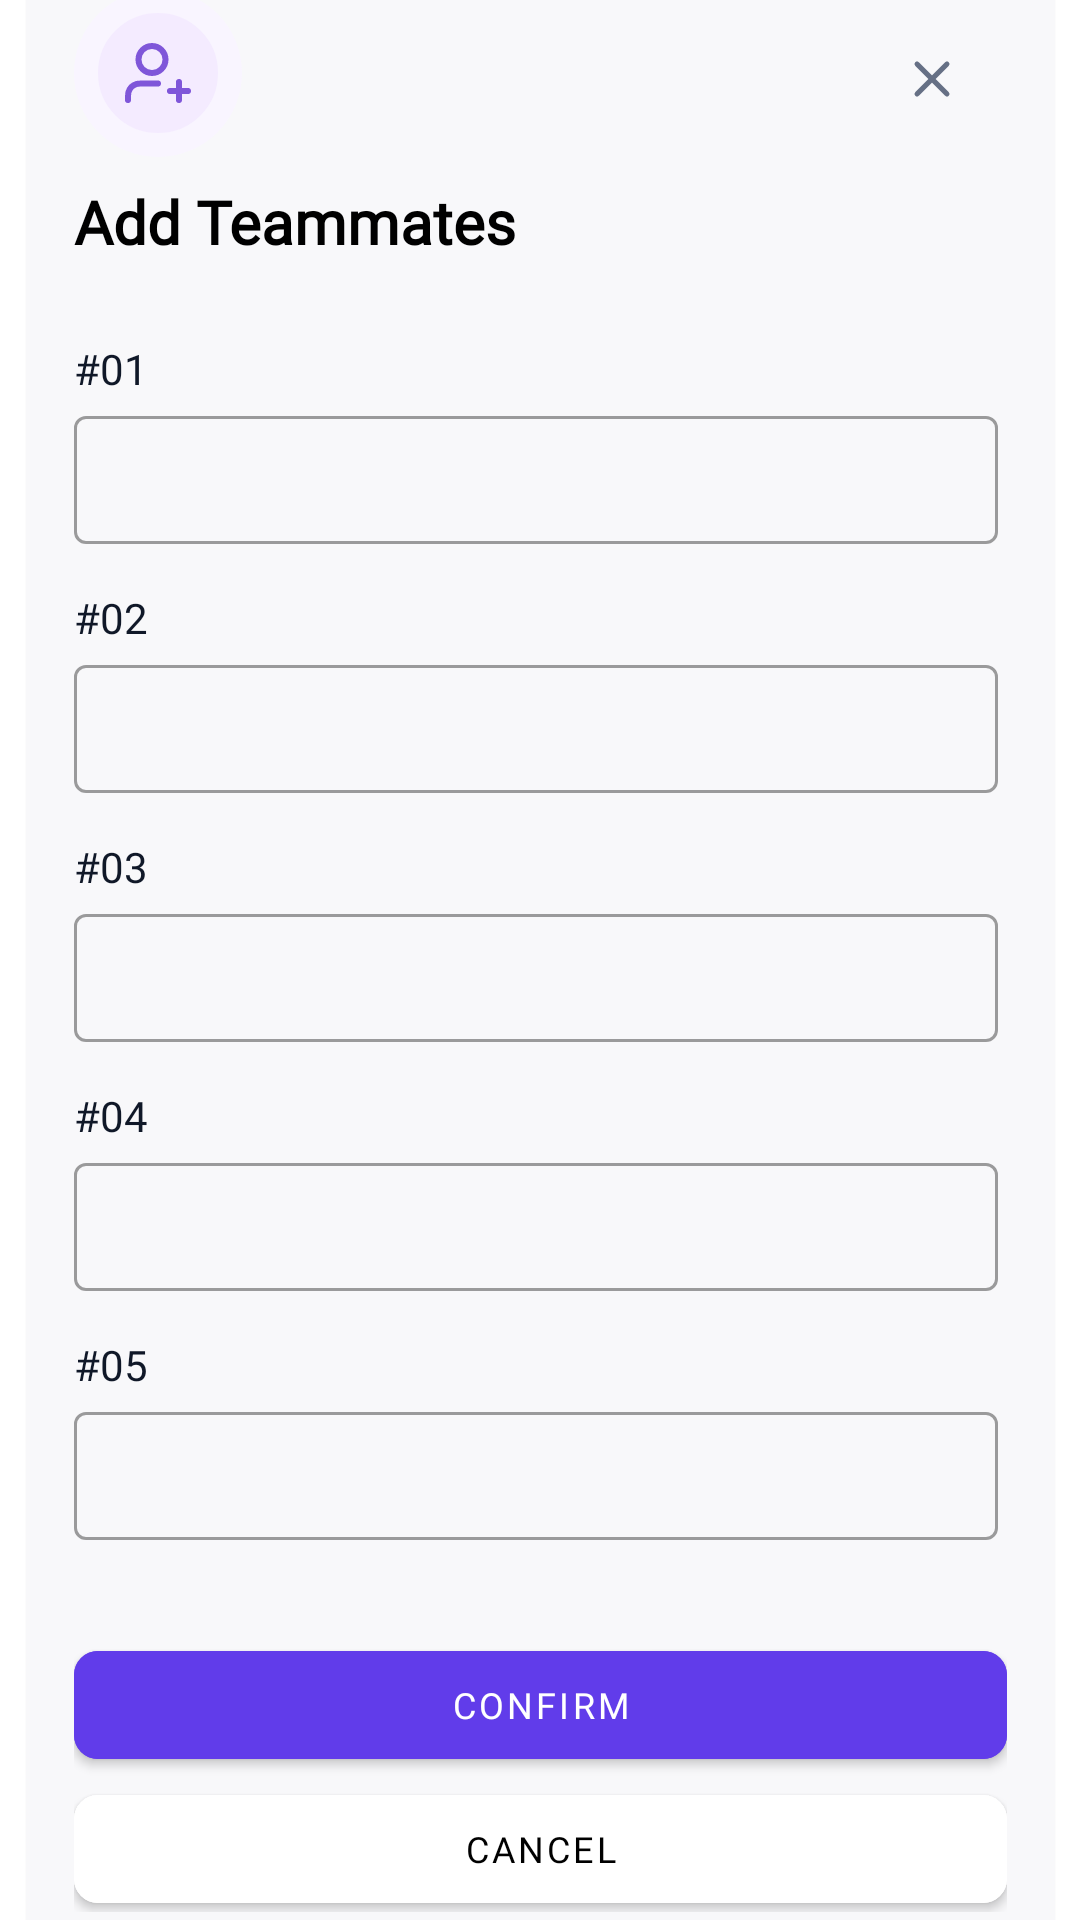

Icon bounding boxes for this 1080px x 1920px phone screenshot, format [left=x1, top=y1, right=x2, bottom=y2]:
close: [left=914, top=61, right=950, bottom=97]
